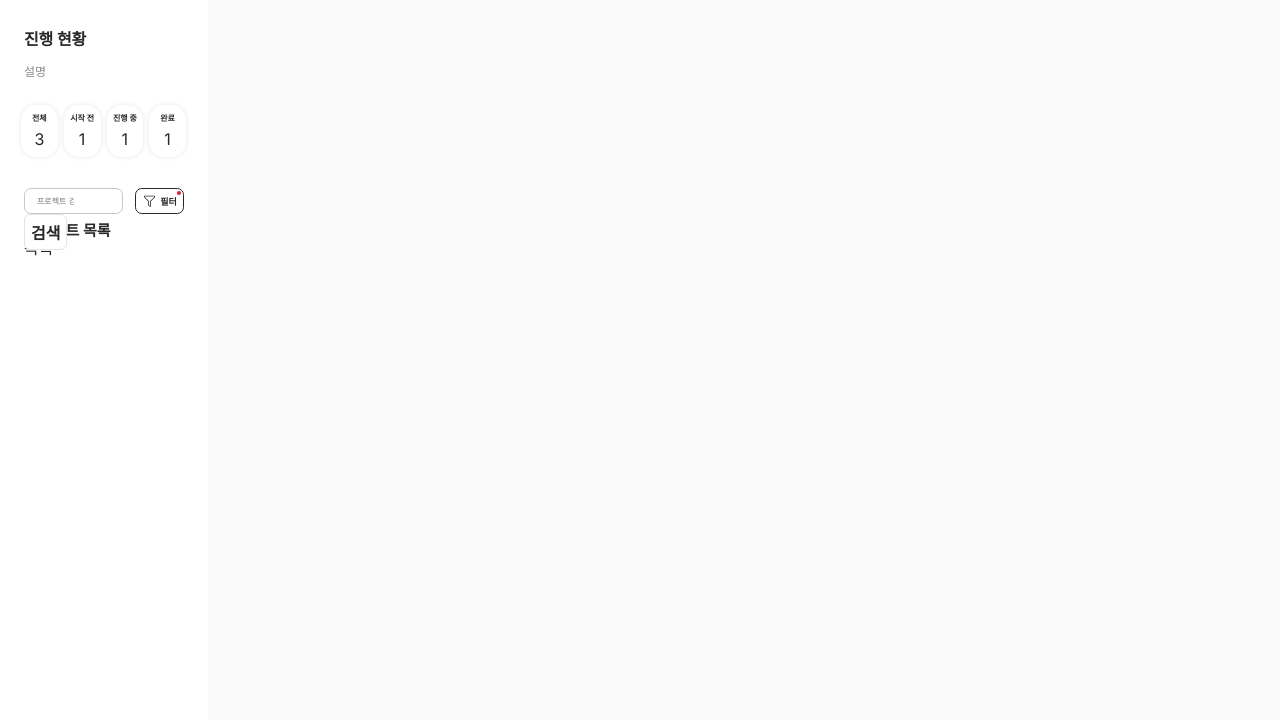
Test case: OsanListFrame 다중 선택 필터 › 검색 결과만 전체 선택하고 적용할 때 기존 선택과 함께 반영한다
Click the button "필터".
click(160, 201)  # box [135,188,184,214]
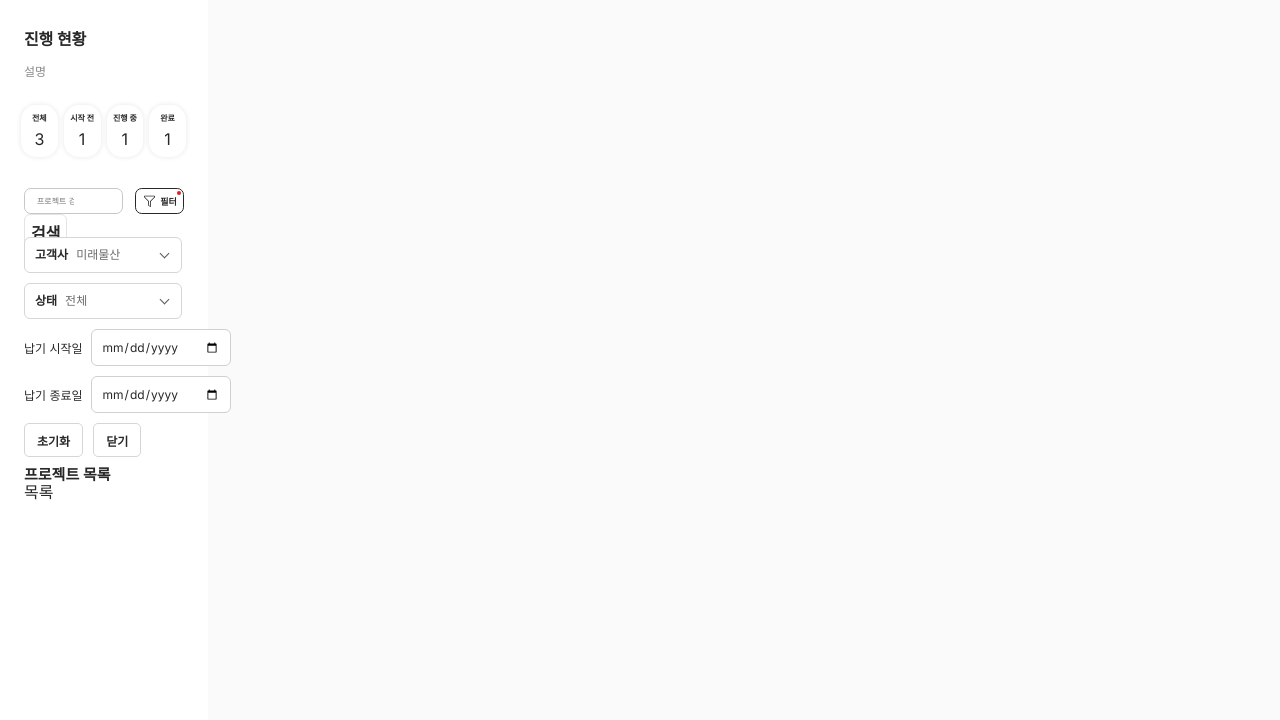
Click the button with aria-label "고객사 필터".
click(103, 255)  # box [24,237,182,273]
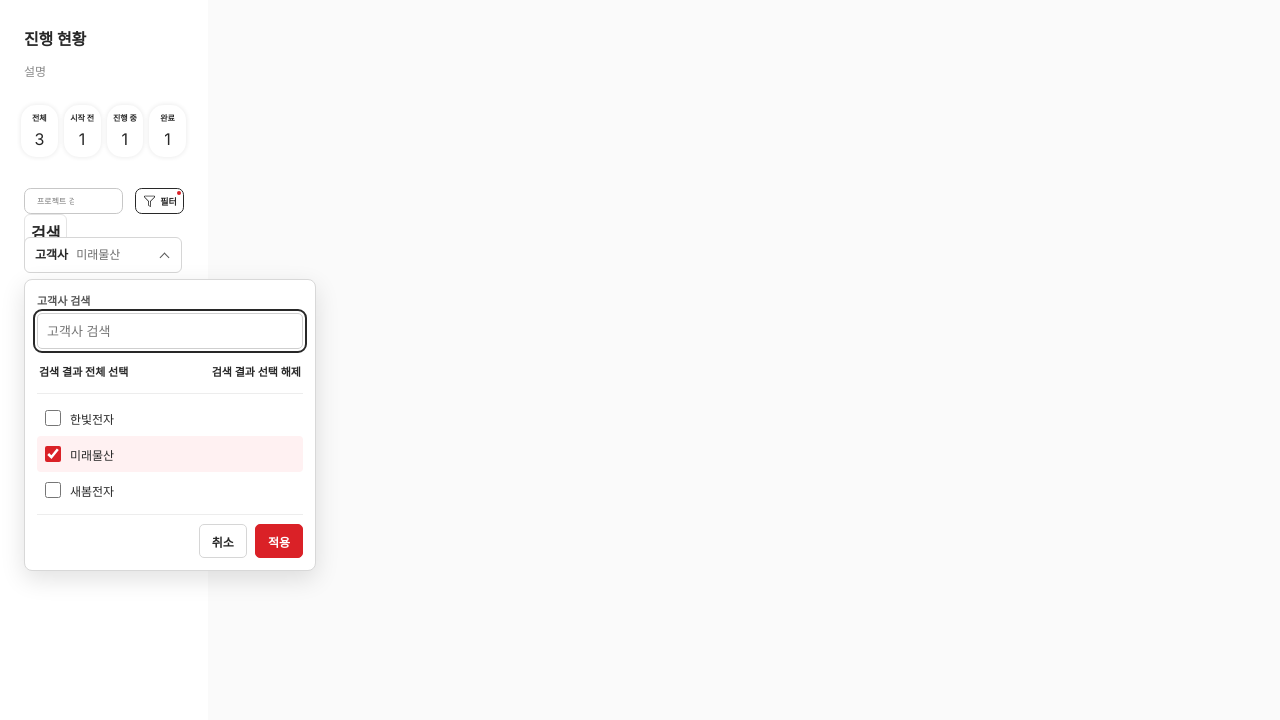
Type "전자" into the search field labelled "고객사 검색".
click(170, 331); type("전자")  # box [37,313,303,349]
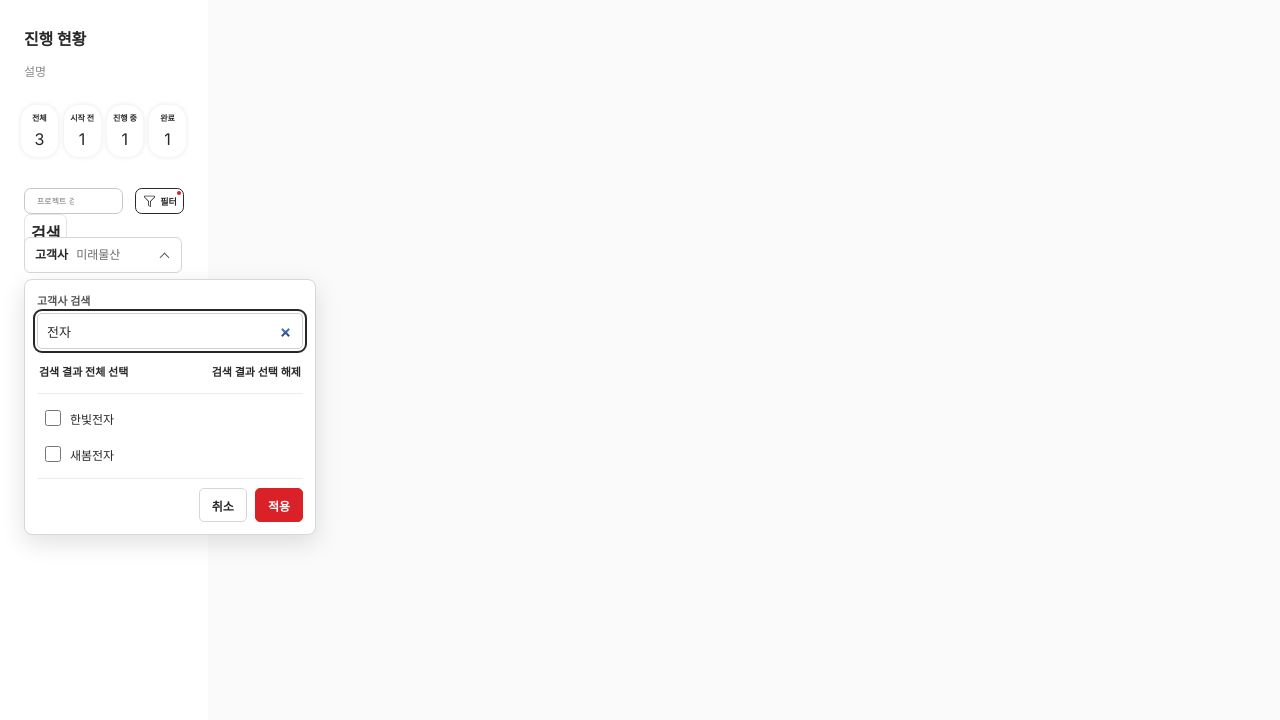
Now the number of checkboxes is 2, box [45,410,61,426]; [45,446,61,462]
Click the button "검색 결과 전체 선택".
click(84, 371)  # box [37,357,130,385]
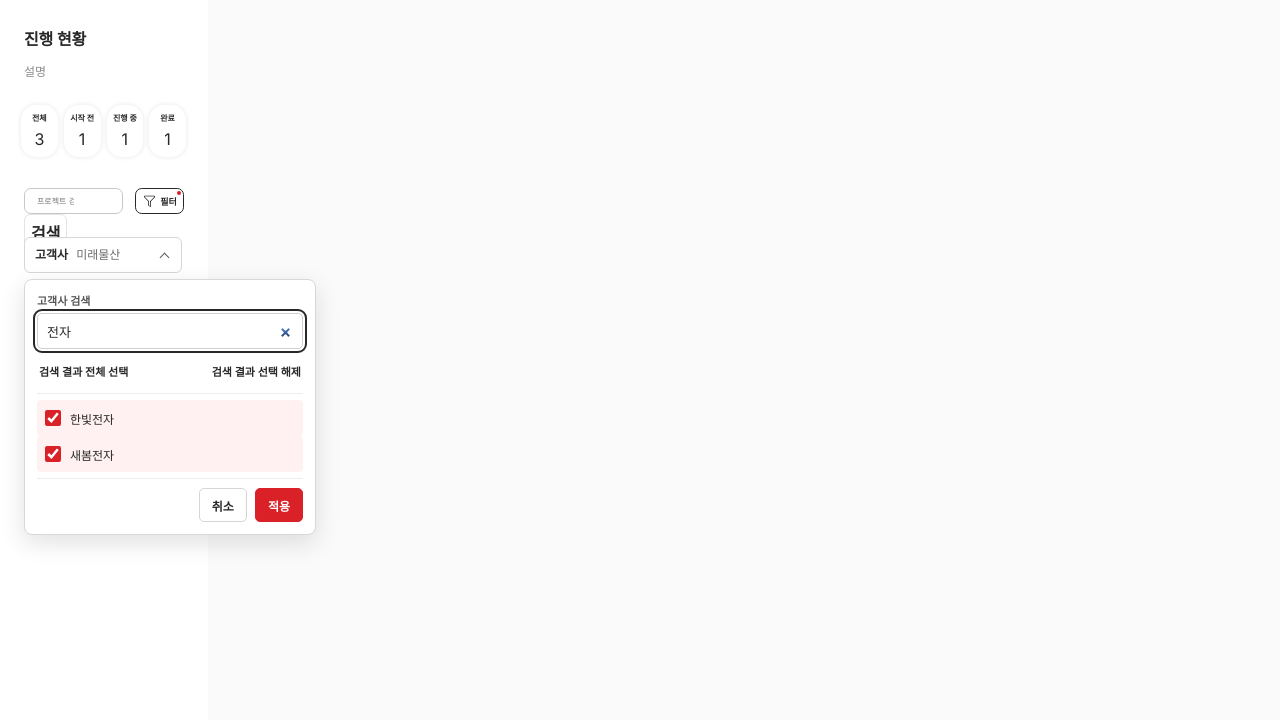
Now the checkbox labelled "한빛전자" is checked, box [45,410,61,426]
Now the checkbox labelled "새봄전자" is checked, box [45,446,61,462]
Click the button "적용".
click(279, 505)  # box [255,488,303,522]
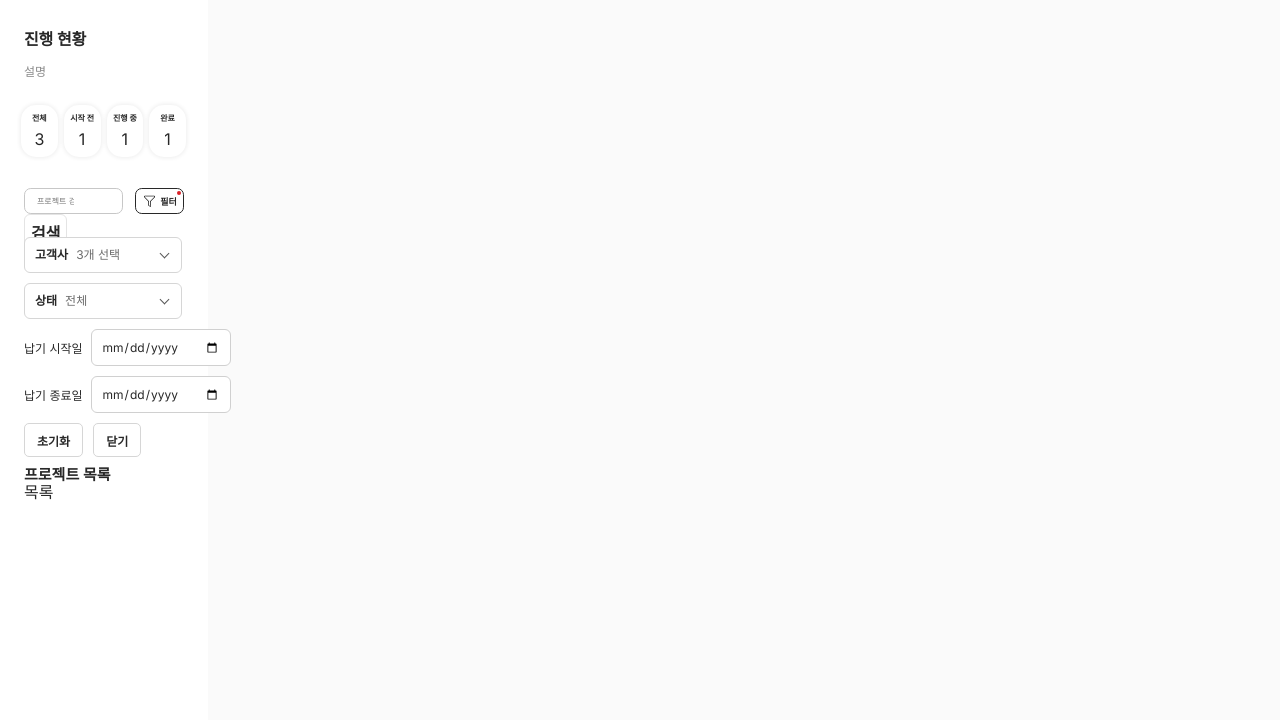
Now the button with aria-label "고객사 필터: 3개 선택" is collapsed, box [24,237,182,273]
